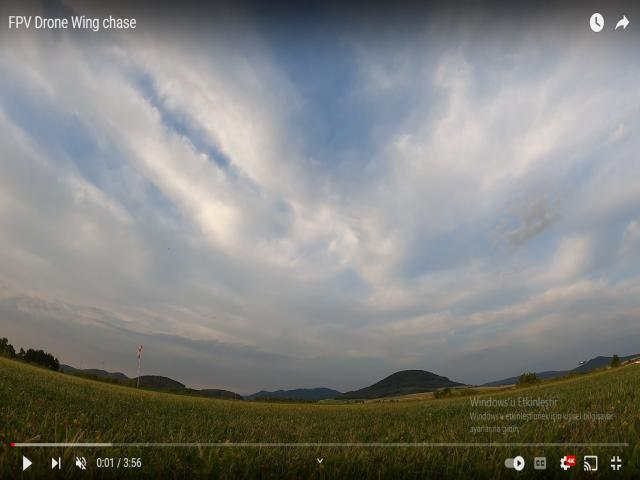plane: (576, 360, 586, 366)
